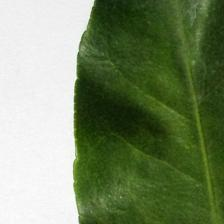healthy: (72, 0, 224, 224)
